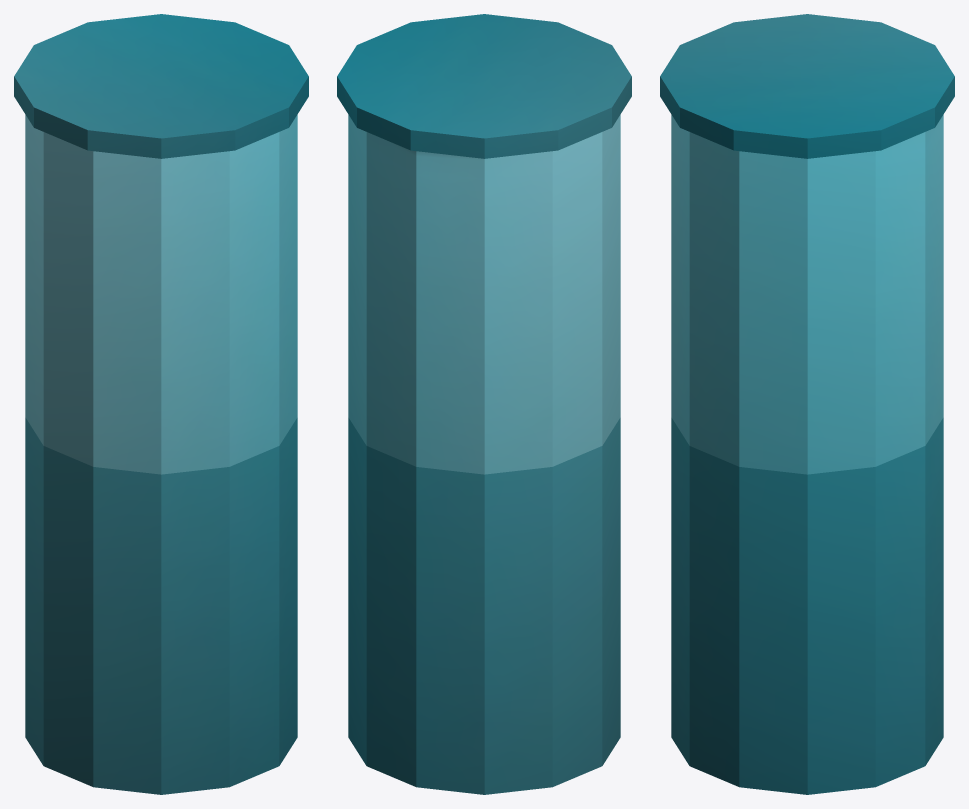
The model's file is Ürün11.fbx.
3 renders of one model, left to right at view 1: azimuth 30°, elevation 25°; view 2: azimuth 150°, elevation 25°; view 3: azimuth 270°, elevation 25°, orthographic.
Visible parts, largest first — view 1: pCylinder4; view 2: pCylinder4; view 3: pCylinder4.
Part boxes in pixels (box(x1,y1,x2,y2)): pCylinder4: box(14, 14, 308, 794); pCylinder4: box(337, 14, 631, 794); pCylinder4: box(660, 14, 954, 794).
Bounding box in the file's own units: 11.6 × 28.73 × 11.6.
